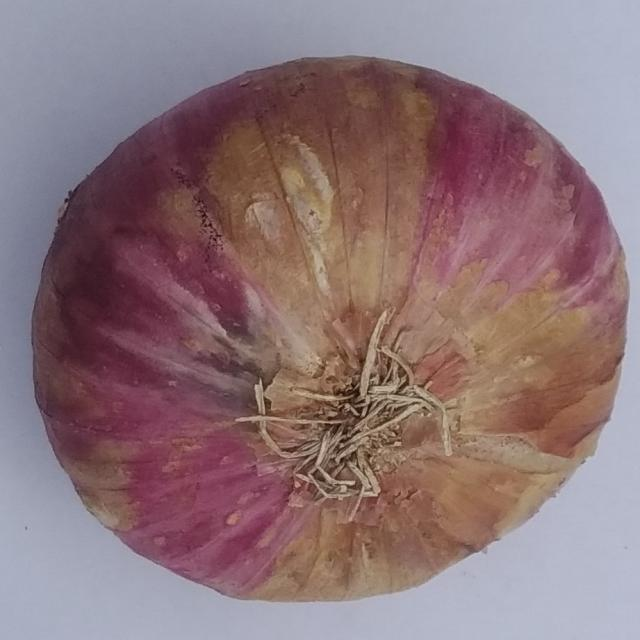onion: (28, 56, 631, 603)
